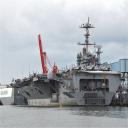Portanaves: (18, 16, 124, 108)
